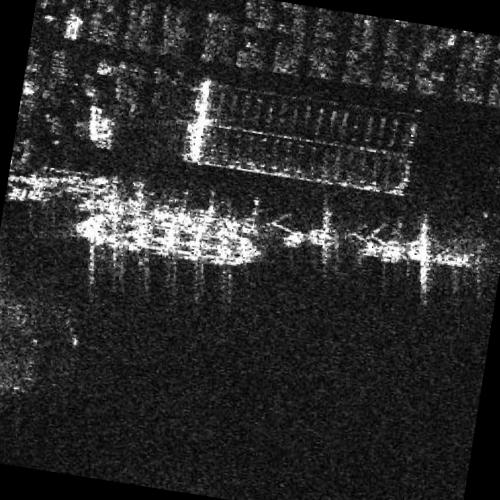ship: (75, 212, 267, 270)
